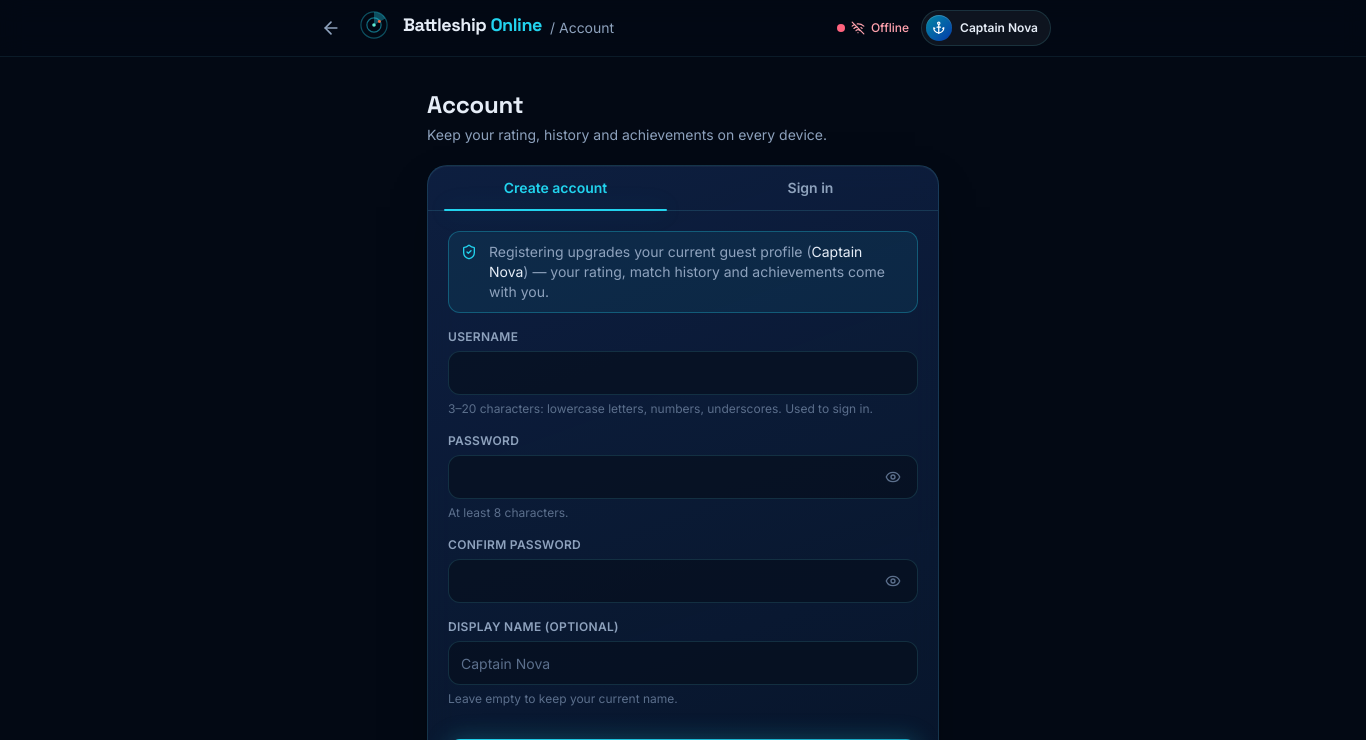
Scenario: AccountScreen › maps a USERNAME_TAKEN error onto the username field
Type "captain" into the field labelled "Username".
click(683, 373); type("captain")  # box top-left (461, 352), bottom-right (905, 394)
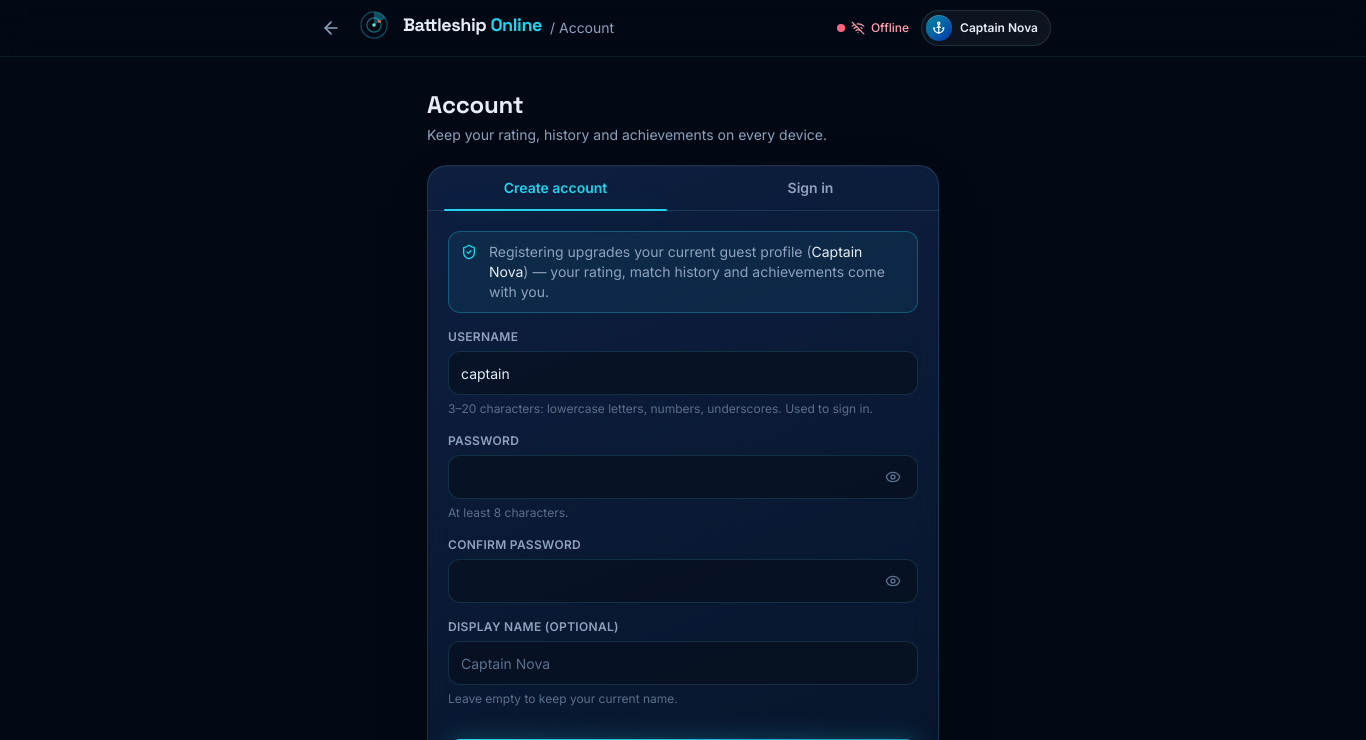
Type "longenough1" into the password field labelled "Password At least 8 characters.".
click(667, 477); type("longenough1")  # box top-left (461, 456), bottom-right (873, 498)
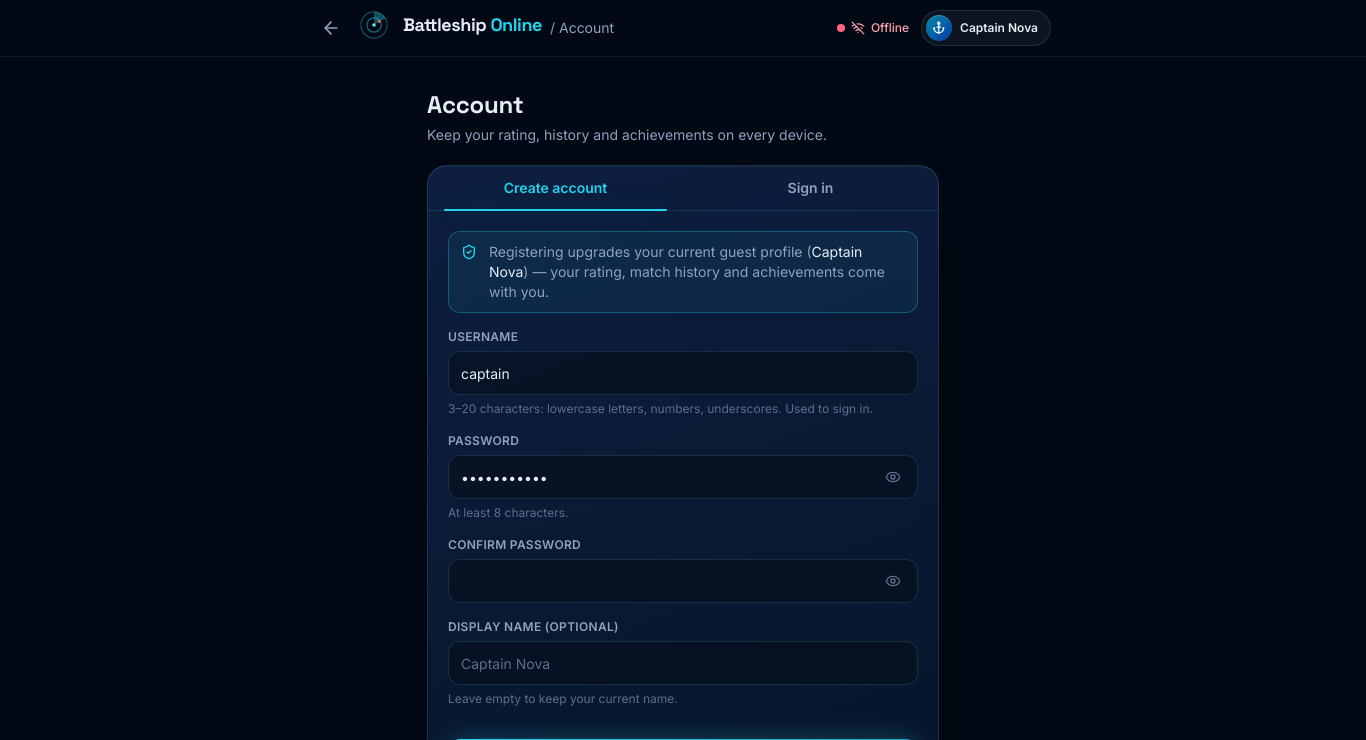
Type "longenough1" into the password field labelled "Confirm password".
click(667, 581); type("longenough1")  # box top-left (461, 560), bottom-right (873, 602)
(page scrolled)
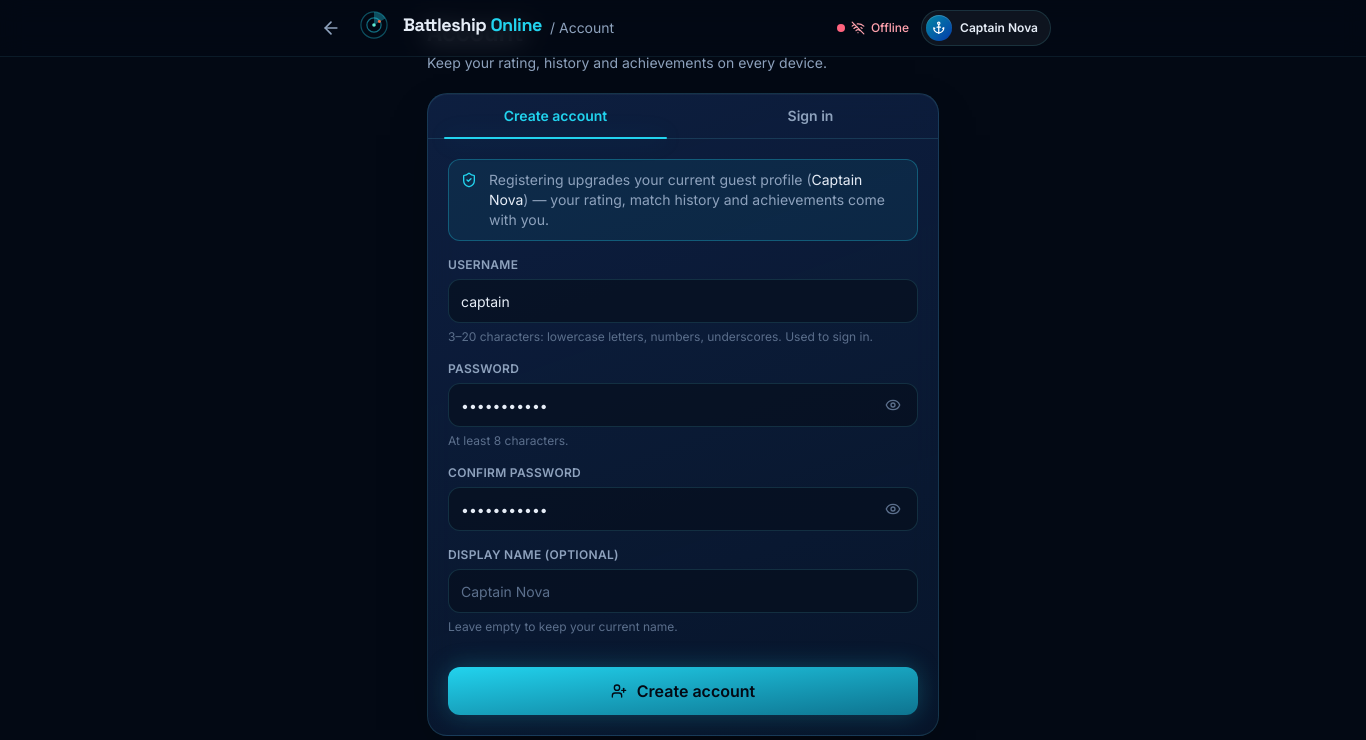
Click the button "Create account".
click(683, 691)  # box top-left (448, 667), bottom-right (918, 715)
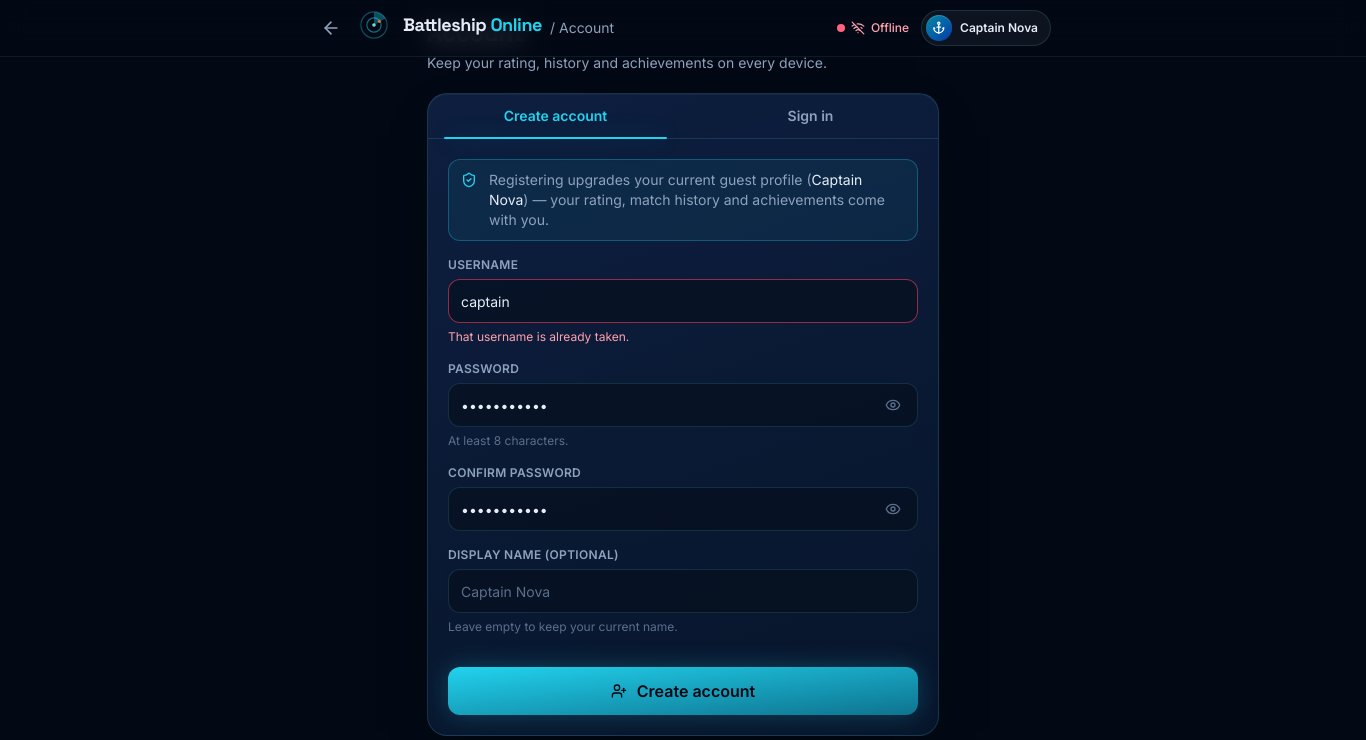
Result: the text "That username is already taken." is shown at top-left (448, 329), bottom-right (629, 344)
